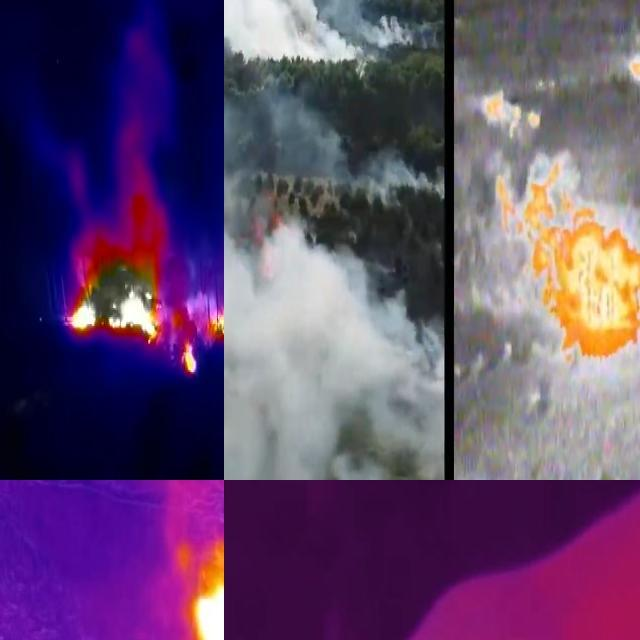fire: (494, 157, 640, 359), (67, 230, 165, 348), (482, 87, 542, 137), (627, 37, 640, 88)
